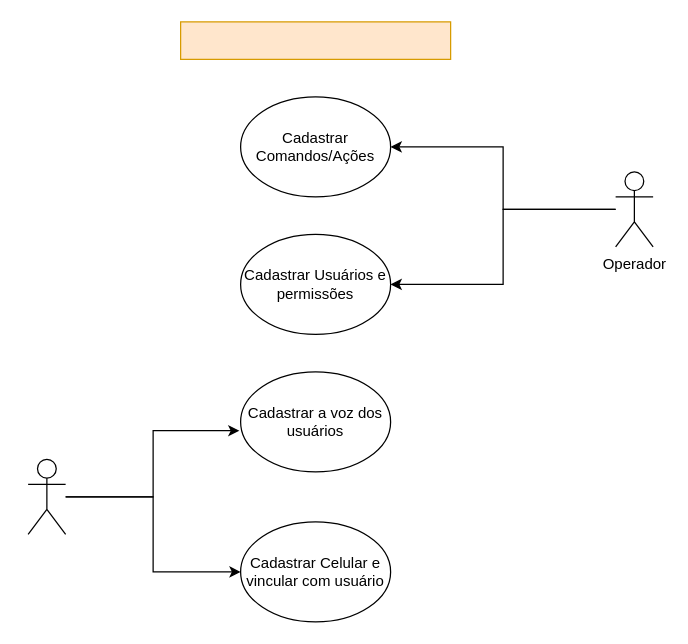
Some shapes in this 688 by 644 pixel diagram are drawn without their labels. Each missing label, with the centre of its shape:
Ronaldo Ottoni Borges de Carvalho. RU: 4385395: point 315,40
Usuário: point 46,496
